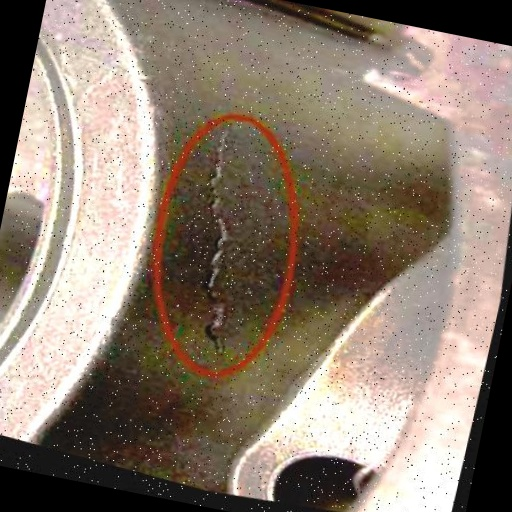crack: (155, 108, 282, 367)
